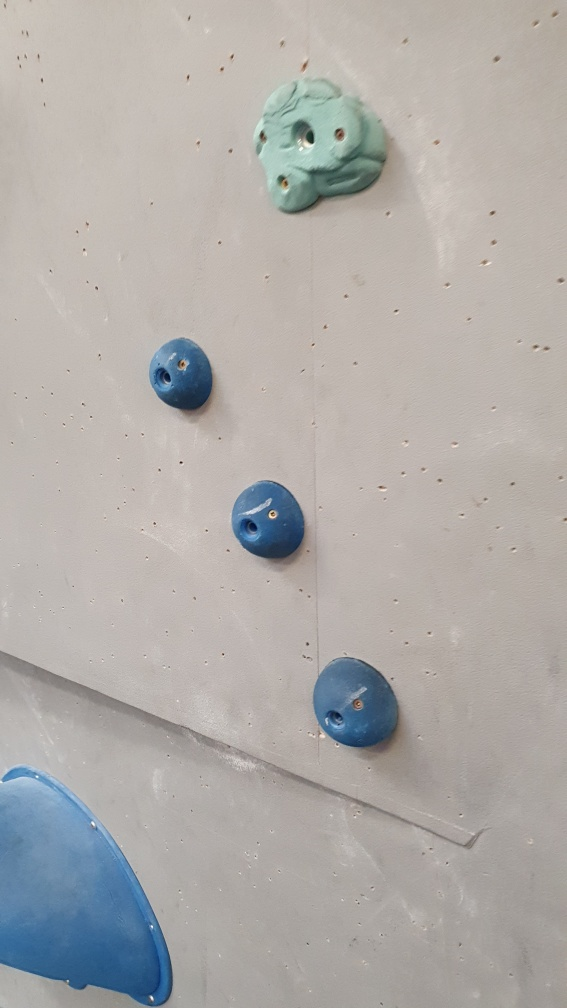Sloper: (308, 642, 405, 756), (229, 473, 308, 562), (144, 337, 215, 414)
